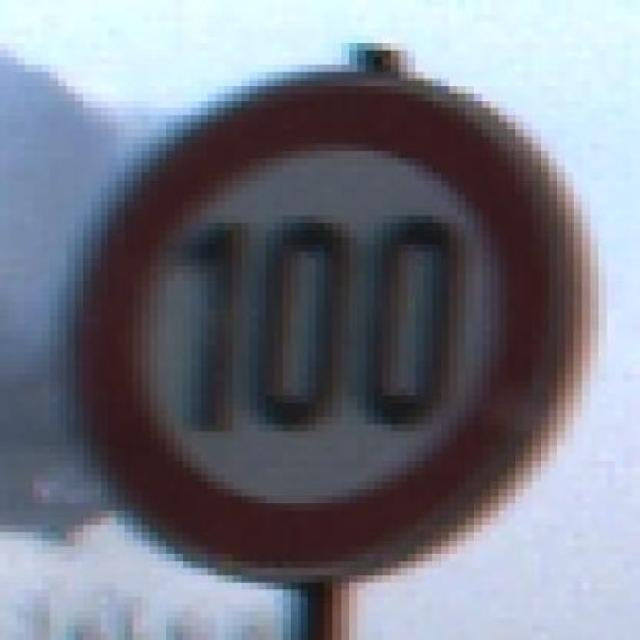forb_speed_over_100: (90, 79, 564, 576)
